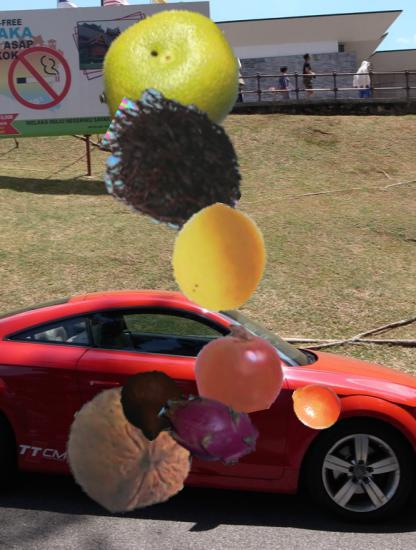Peach: (165, 203, 275, 313)
Pear: (117, 370, 189, 442)
Pitahaya: (157, 382, 259, 484)
Pomelo: (98, 9, 243, 154)
Rambutan: (99, 90, 249, 240)
Redcurrant: (193, 323, 285, 415)
Tangelo: (290, 380, 342, 432)
Walnut: (63, 386, 195, 518)
